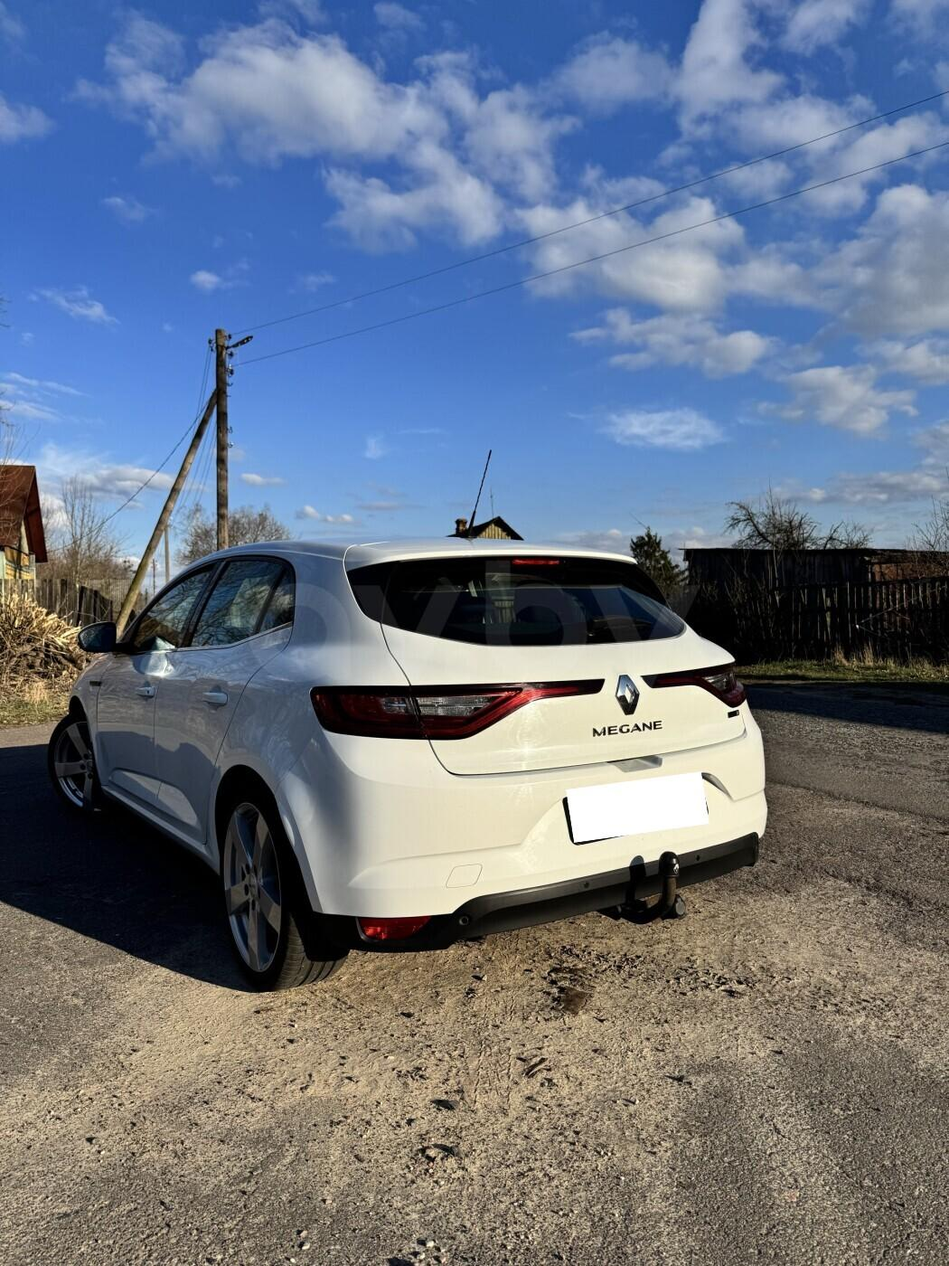Megane_2016-2020: (54, 543, 772, 995)
